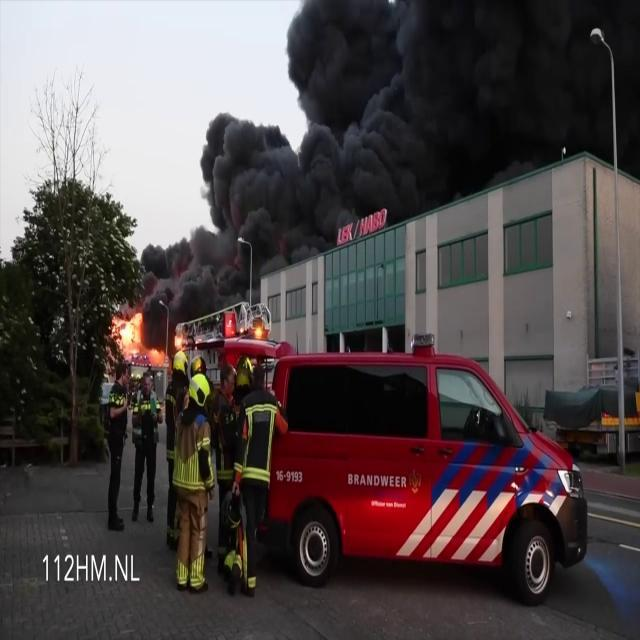Fire: (110, 304, 145, 356)
Smoke: (186, 0, 636, 254)
